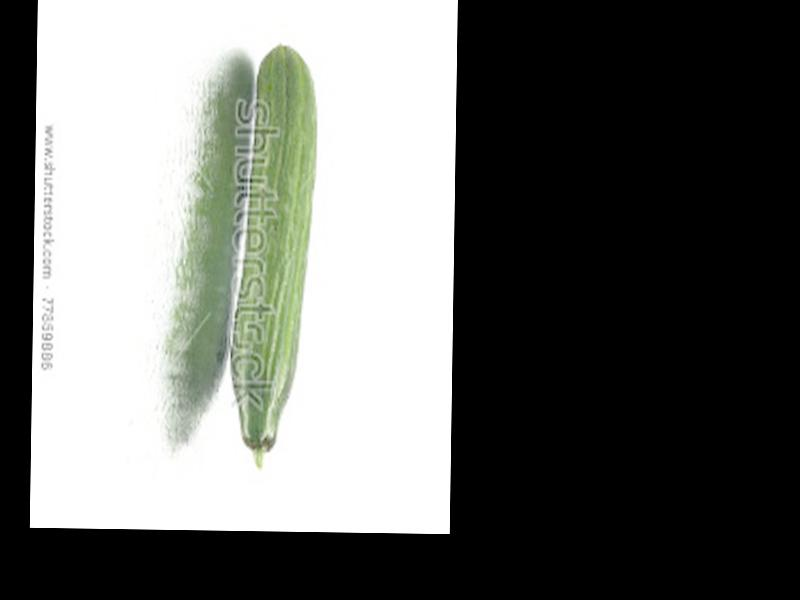Cucumber: (228, 47, 319, 468)
